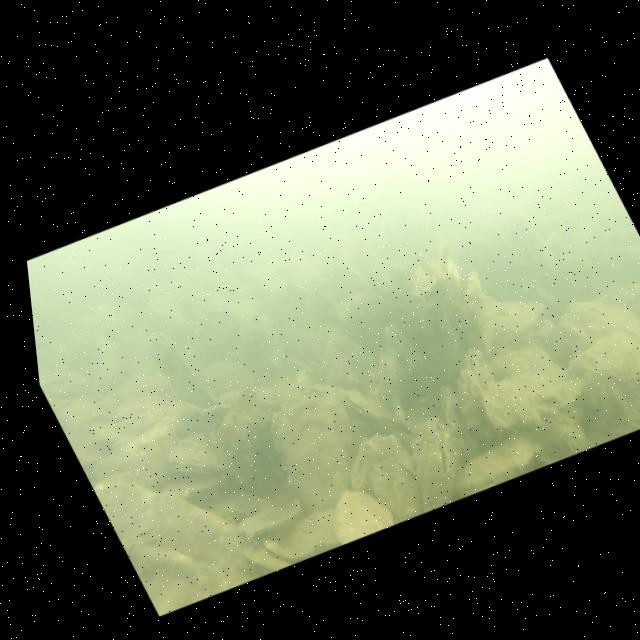Oyster-Closed: (383, 407, 486, 515), (196, 377, 299, 479), (440, 426, 551, 503), (431, 340, 518, 433), (333, 371, 419, 456), (426, 381, 484, 459), (322, 342, 370, 400), (363, 349, 409, 397)
Oyster-Indeterminate: (87, 441, 265, 620), (248, 371, 402, 523), (536, 273, 640, 396), (470, 346, 596, 445), (332, 423, 441, 535), (553, 318, 640, 416), (252, 497, 357, 573), (316, 476, 401, 548), (585, 331, 640, 438), (226, 489, 310, 546)
Oyster-Open: (429, 248, 515, 357), (138, 320, 224, 422), (479, 282, 562, 355), (156, 423, 235, 492), (376, 318, 429, 380)
